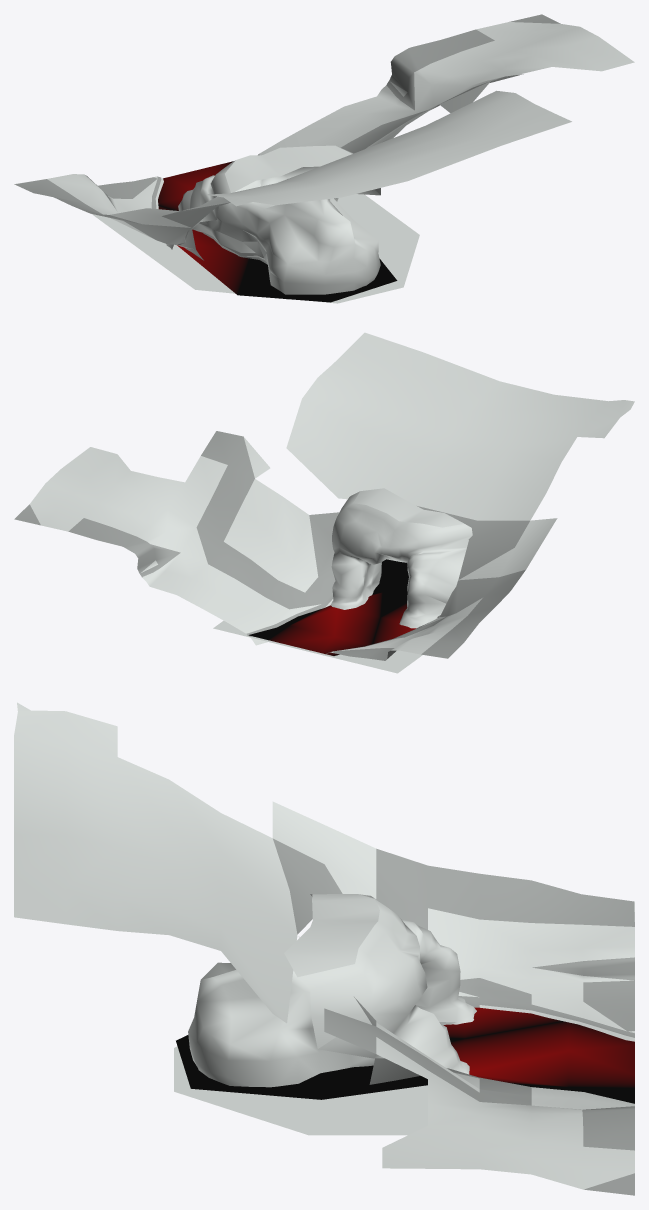
3 renders of one model, top to bottom at view 1: azimuth 30°, elevation 25°; view 2: azimuth 150°, elevation 25°; view 3: azimuth 270°, elevation 25°, orthographic. The views are drawn at different scales.
Visible parts, largest first — view 1: G:\FFXIV-MapTools\exports\g3f2\bg\ex2\01_gyr_g3\fld\g3f2\bgp (×8); view 2: G:\FFXIV-MapTools\exports\g3f2\bg\ex2\01_gyr_g3\fld\g3f2\bgp (×8); view 3: G:\FFXIV-MapTools\exports\g3f2\bg\ex2\01_gyr_g3\fld\g3f2\bgp (×9).
Part boxes in pixels (x1,y1,x2,y2): G:\FFXIV-MapTools\exports\g3f2\bg\ex2\01_gyr_g3\fld\g3f2\bgp (×8): (14, 14, 634, 303); G:\FFXIV-MapTools\exports\g3f2\bg\ex2\01_gyr_g3\fld\g3f2\bgp (×8): (14, 332, 634, 673); G:\FFXIV-MapTools\exports\g3f2\bg\ex2\01_gyr_g3\fld\g3f2\bgp (×9): (14, 702, 634, 1195).
Bounding box in the file's own units: 128 × 44.04 × 96.
